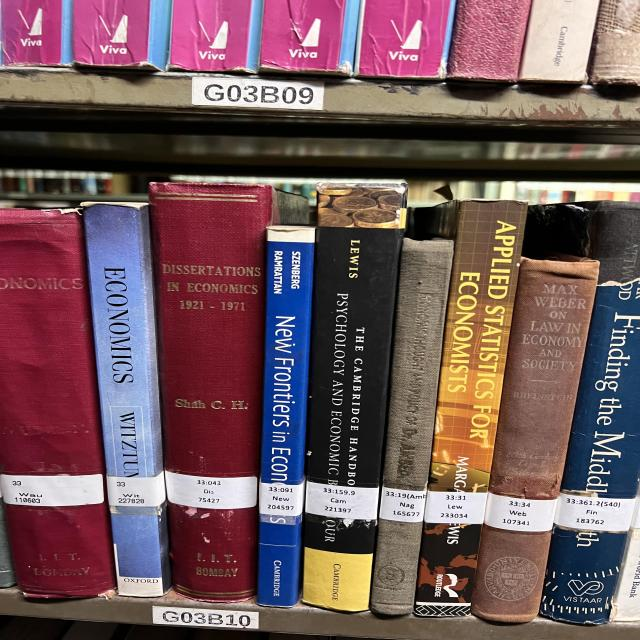Book: (150, 182, 308, 602), (413, 200, 527, 616), (472, 255, 600, 622), (0, 209, 117, 599), (303, 184, 407, 611), (83, 202, 170, 596), (370, 239, 453, 615), (257, 226, 315, 608)
Label: (165, 471, 258, 509), (0, 474, 103, 506), (553, 492, 635, 531), (305, 481, 380, 520), (485, 492, 557, 531), (107, 471, 167, 506), (425, 491, 487, 524), (380, 486, 427, 522), (260, 482, 305, 516)
